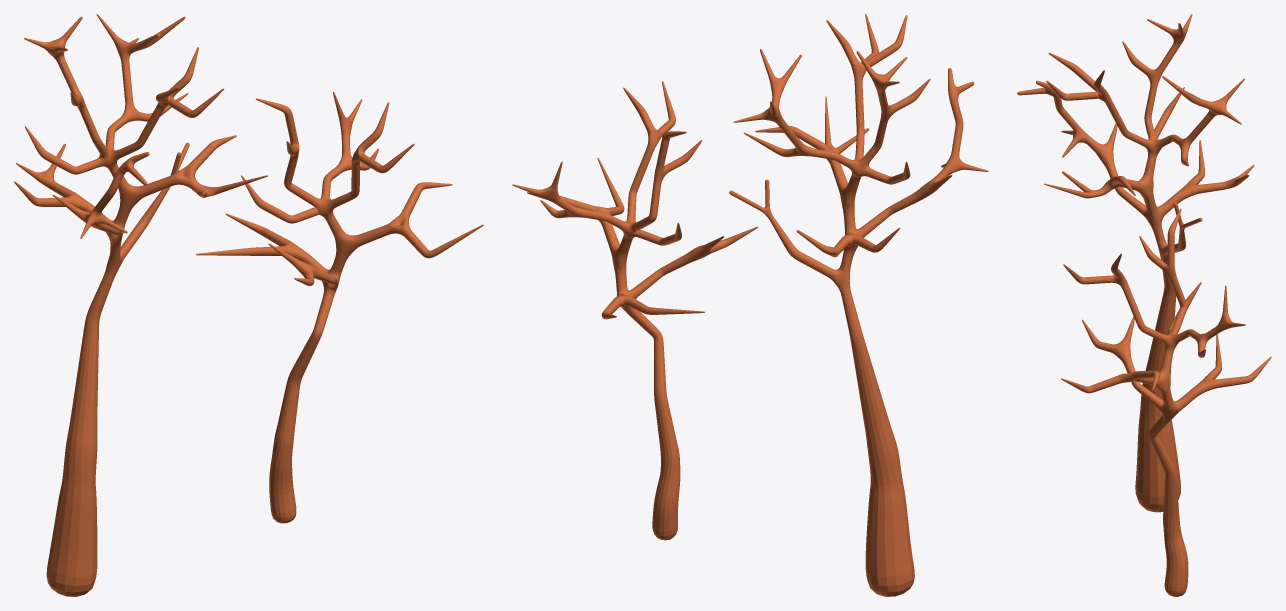
Rendered from TreeNoLeaves1.fbx.
3 views of the same model, side by side, from view 1: azimuth 30°, elevation 25°; view 2: azimuth 150°, elevation 25°; view 3: azimuth 270°, elevation 25° (orthographic). The views are drawn at different scales.
Visible parts, largest first — view 1: Vert.001, Vert; view 2: Vert.001, Vert; view 3: Vert.001, Vert.
Boxes of the visible parts, box(x1,y1,x2,y2) form: Vert.001: box(14, 14, 267, 596); Vert: box(196, 92, 483, 523); Vert.001: box(729, 14, 988, 596); Vert: box(512, 81, 758, 540); Vert.001: box(1017, 14, 1254, 512); Vert: box(1061, 208, 1271, 596).
Bounding box in the file's own units: 1316 × 1670 × 777.
